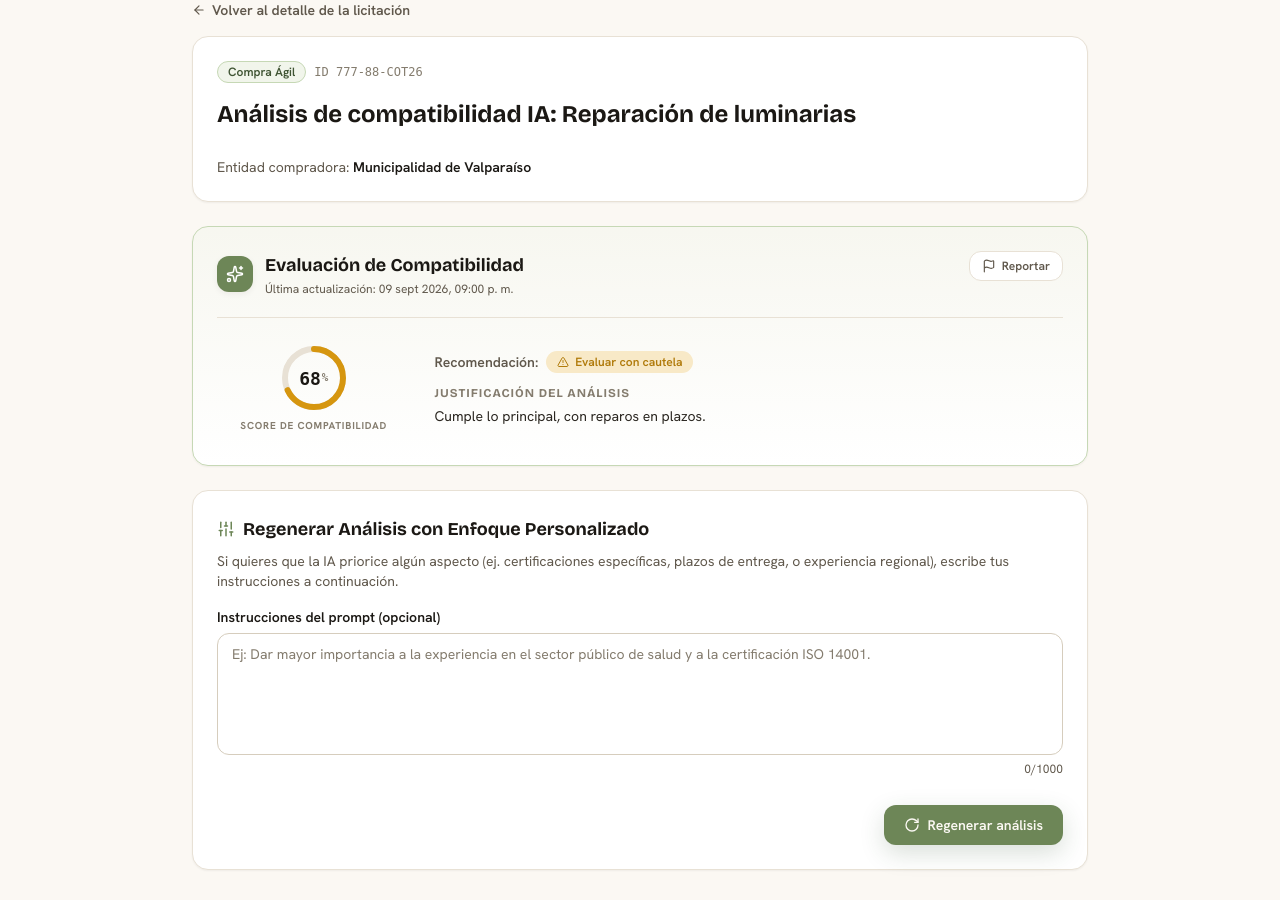
Test: TenderAnalysisView › abre el modal de reportar análisis incorrecto al presionar Reportar (CA2)
The image size is (1280, 900).
What coordinates should you click on to do the following:
click the button "Reportar"
I would click on:
 (1016, 266)
Its box is [969,251,1063,281].
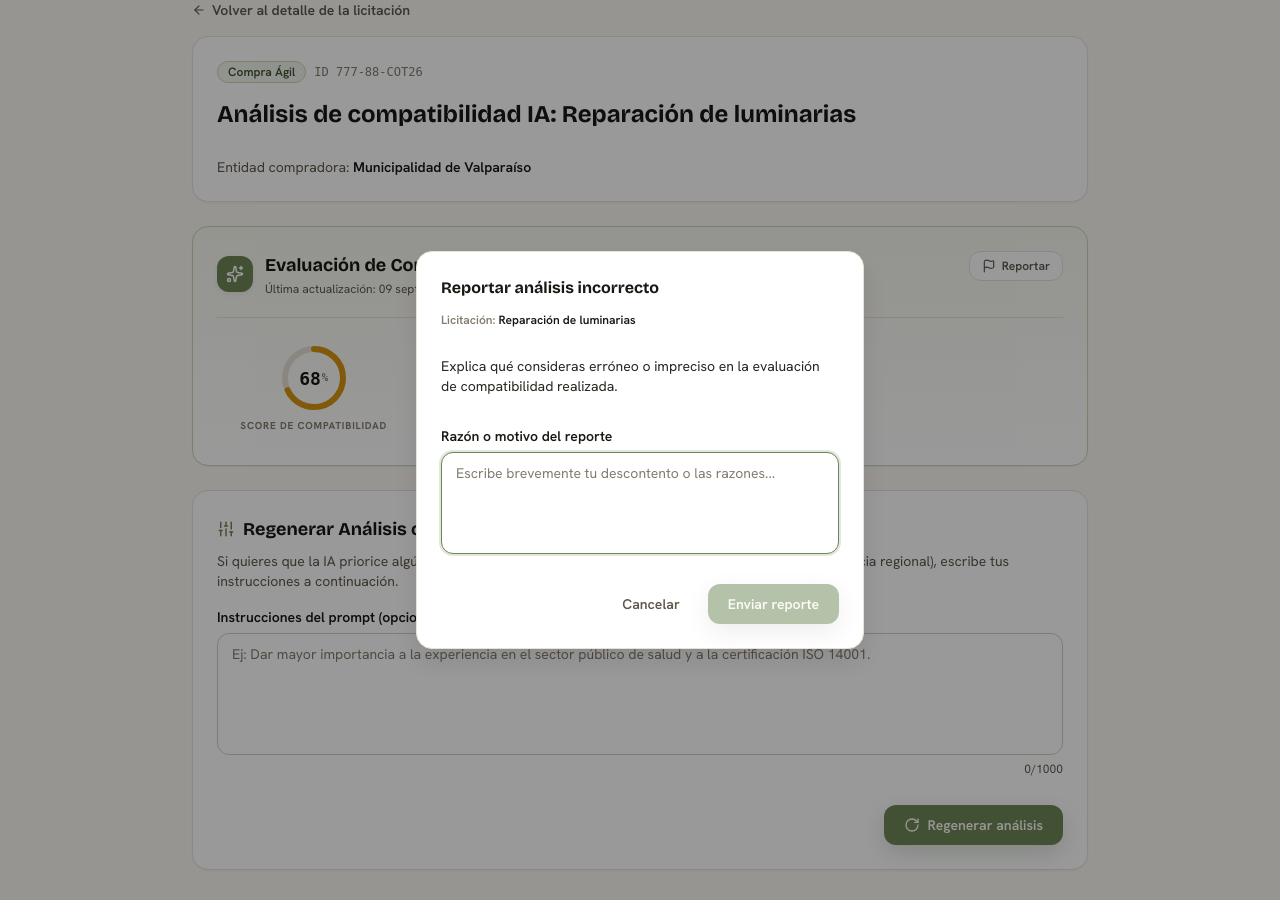
Now the heading "Reportar análisis incorrecto" is shown, box [441,278,659,297]
